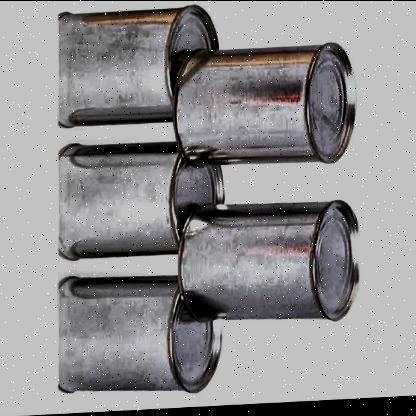Can: (172, 38, 362, 176), (178, 196, 366, 334), (56, 264, 230, 402), (52, 0, 224, 136), (54, 133, 228, 263)
